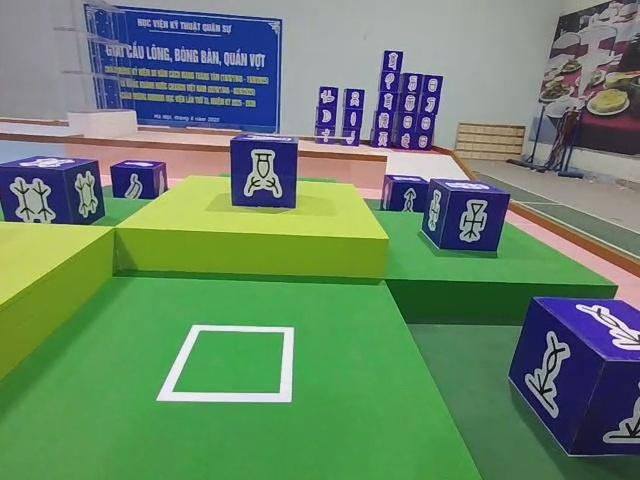R2 Real Blue: (508, 297, 638, 461), (2, 154, 107, 225), (423, 180, 513, 255), (231, 133, 302, 210), (111, 159, 169, 200), (382, 176, 434, 216)
